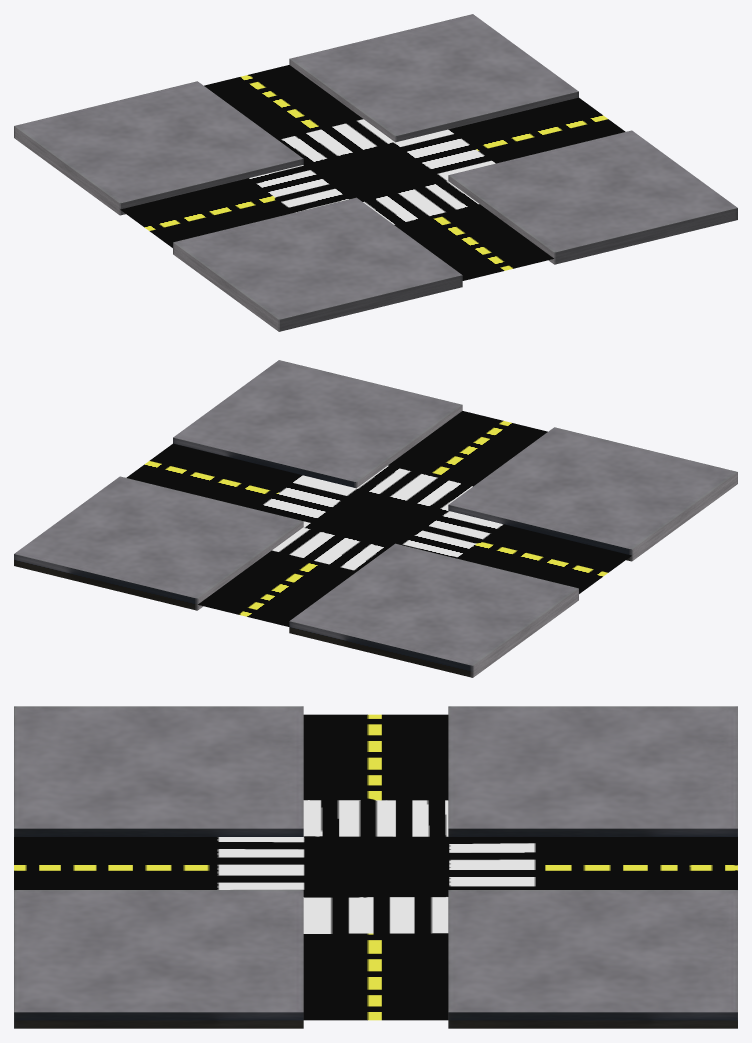
The model's file is cityRoadAndSidewalk.glb.
The picture shows the model from 3 angles, top to bottom: view 1: azimuth 30°, elevation 25°; view 2: azimuth 150°, elevation 25°; view 3: azimuth 270°, elevation 25°; orthographic projection. The views are drawn at different scales.
Visible parts, largest first — view 1: Plane, Cube.003, Cube.002, Cube.001, Cube; view 2: Plane, Cube.001, Cube, Cube.003, Cube.002; view 3: Plane, Cube, Cube.002, Cube.001, Cube.003.
Boxes of the visible parts, left/top/right/bottom form: Plane: left=120, top=65, right=625, bottom=280; Cube.003: left=173, top=197, right=462, bottom=331; Cube.002: left=448, top=130, right=737, bottom=264; Cube.001: left=14, top=81, right=303, bottom=215; Cube: left=289, top=14, right=578, bottom=142; Plane: left=126, top=411, right=631, bottom=626; Cube.001: left=289, top=543, right=578, bottom=677; Cube: left=14, top=476, right=303, bottom=610; Cube.003: left=448, top=427, right=737, bottom=561; Cube.002: left=173, top=360, right=462, bottom=488; Plane: left=14, top=714, right=737, bottom=1020; Cube: left=448, top=890, right=737, bottom=1028; Cube.002: left=14, top=890, right=303, bottom=1028; Cube.001: left=448, top=706, right=737, bottom=836; Cube.003: left=14, top=706, right=303, bottom=836.
Size of the model in its own units: 40 by 1 by 40.
Materials: 2 (2 with a texture image).
